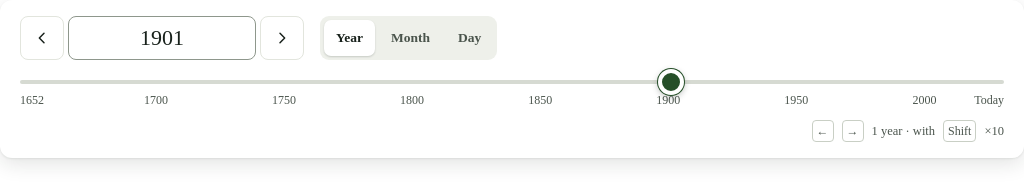
it: keeps Month when less detail is typed, even on the date it shows
Click the radio button labelled "Month" at (410, 38), box [379,20,442,56]
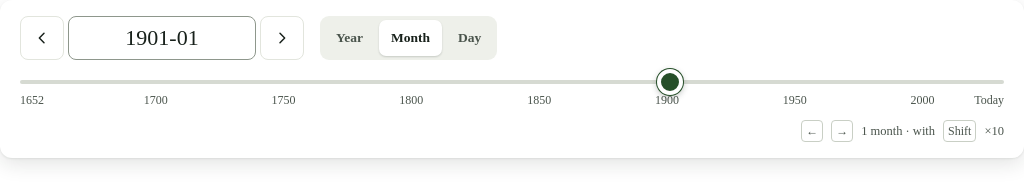
Replace the text in the field named "Date shown" with "1901" at (162, 38), box [81,16,243,60]
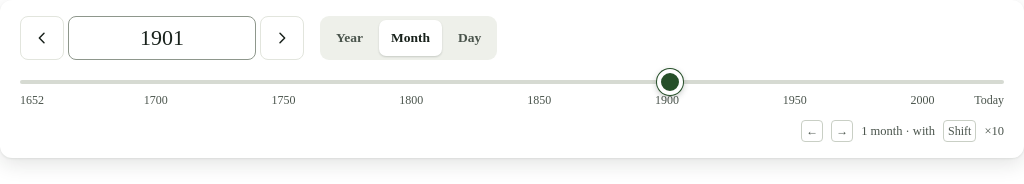
Press Enter in the field named "Date shown", box [81,16,243,60]
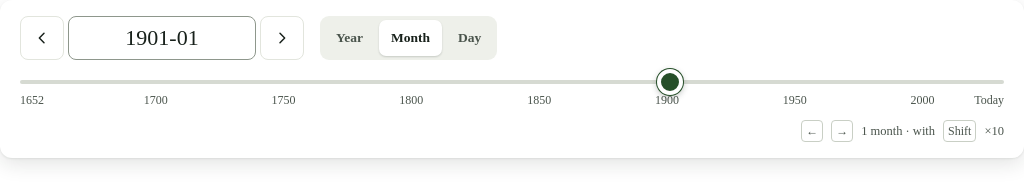
Check: the radio button labelled "Month" is checked, box [379,20,442,56]
Check: the field named "Date shown" holds "1901-01"
Replace the text in the field named "Date shown" with "1905" at (162, 38), box [81,16,243,60]
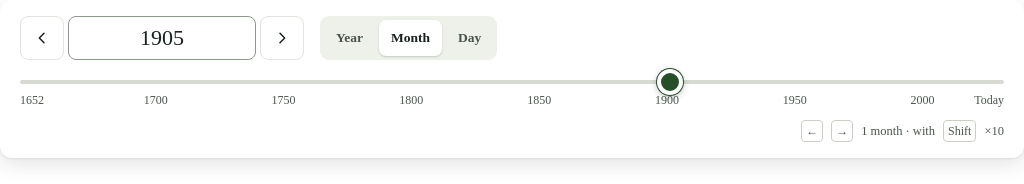
Press Enter in the field named "Date shown", box [81,16,243,60]
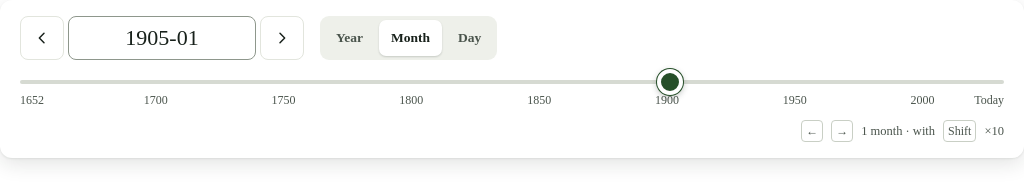
Check: the field named "Date shown" holds "1905-01", box [81,16,243,60]
